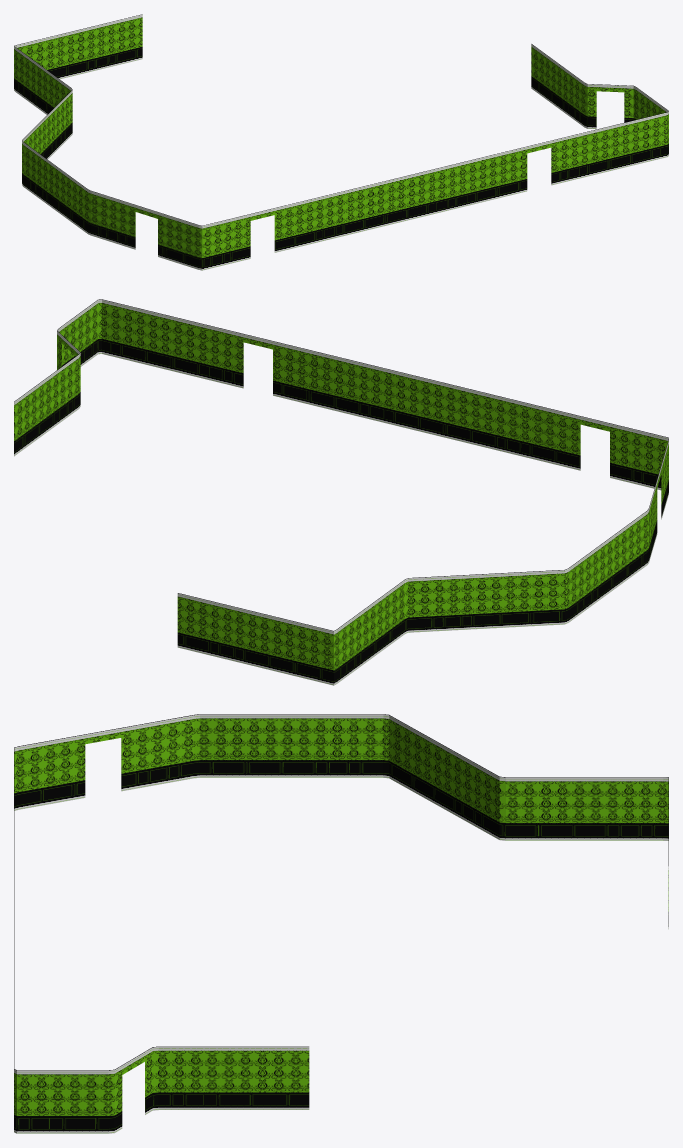
Rendered from oddities wall.fbx.
3 views of the same model, one above another, from view 1: azimuth 30°, elevation 25°; view 2: azimuth 150°, elevation 25°; view 3: azimuth 270°, elevation 25° (orthographic). The views are drawn at different scales.
Parts seen in each view (by area): view 1: oddities; view 2: oddities; view 3: oddities.
Part boxes in pixels (bbox=[...]): oddities: bbox=[14, 14, 668, 270]; oddities: bbox=[14, 299, 668, 685]; oddities: bbox=[14, 714, 668, 1133].
Size of the model in its own units: 3598 by 299 by 2797.
